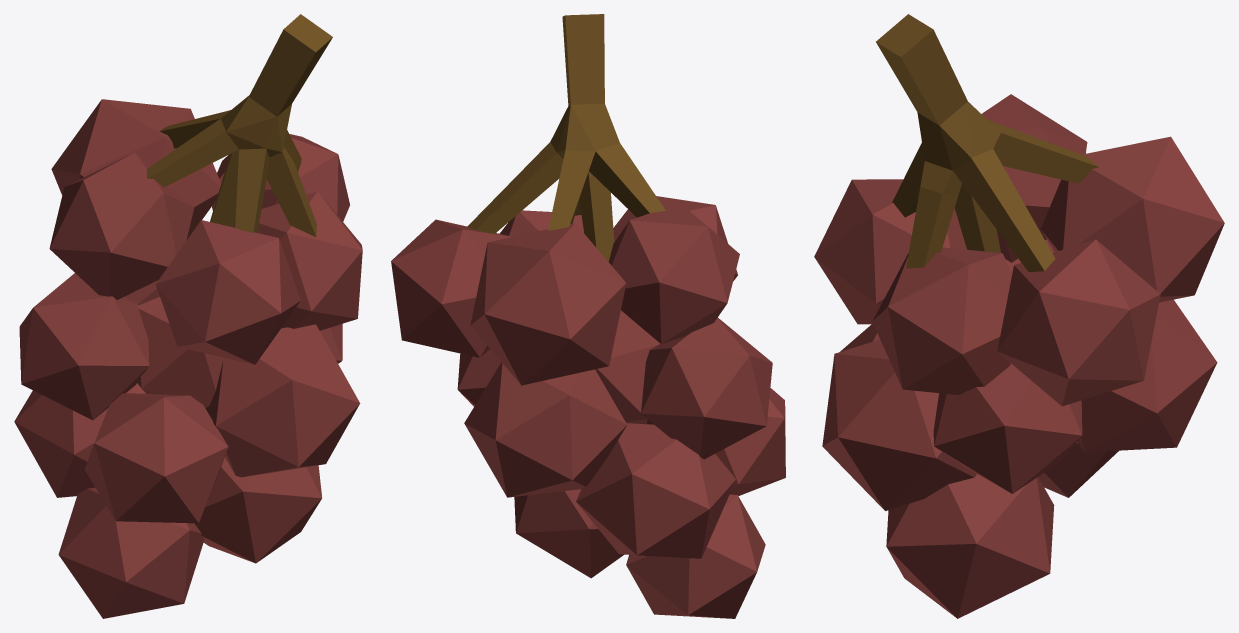
Rendered from Grapes.glb.
3 views of the same model, side by side, from view 1: azimuth 30°, elevation 25°; view 2: azimuth 150°, elevation 25°; view 3: azimuth 270°, elevation 25° (orthographic). The views are drawn at different scales.
Parts seen in each view (by area): view 1: Grapes; view 2: Grapes; view 3: Grapes.
Part boxes in pixels (box(x1,y1,x2,y2)): Grapes: box(14, 14, 362, 618); Grapes: box(391, 14, 785, 618); Grapes: box(814, 14, 1224, 618).
Bounding box in the file's own units: 0.0802 × 0.1229 × 0.073.
